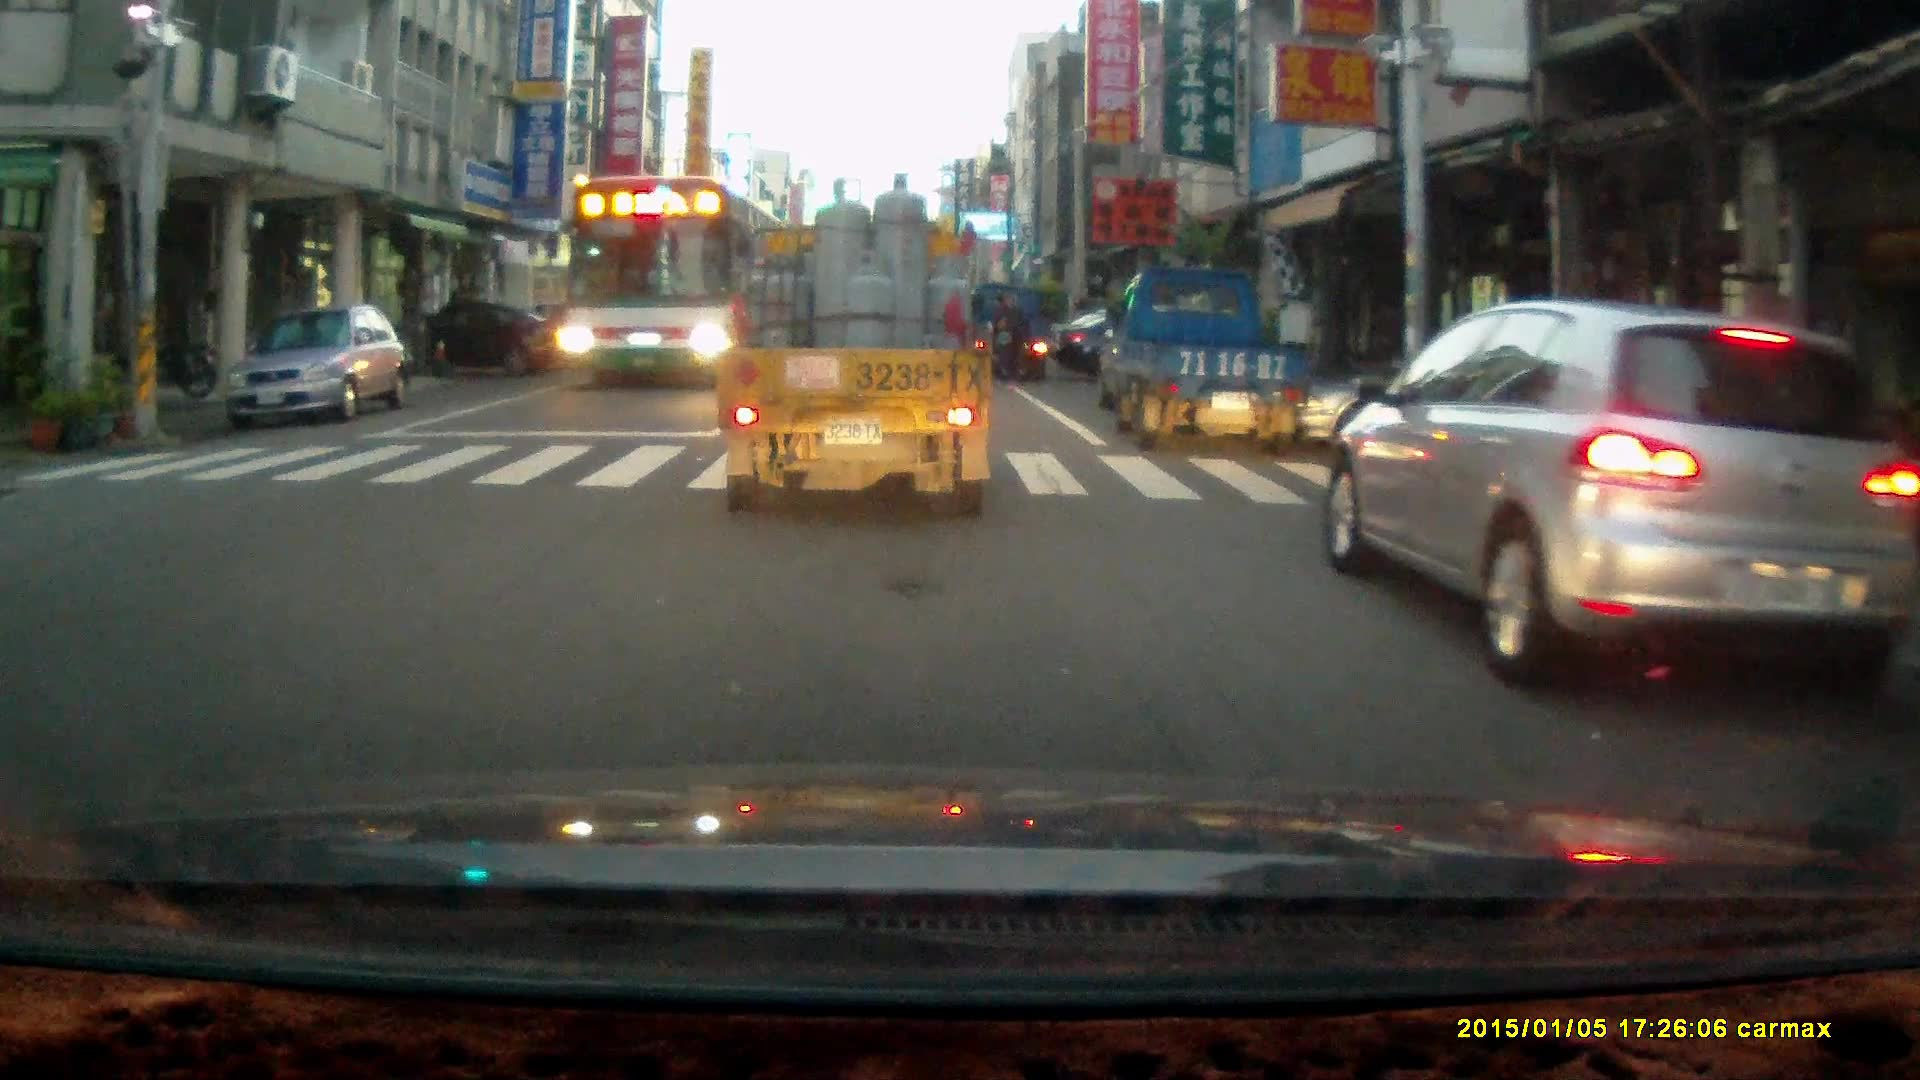pedestrian: (992, 288, 1032, 382)
vehicle: (1323, 297, 1901, 682), (722, 169, 998, 523), (552, 170, 774, 388), (1096, 260, 1307, 449), (216, 294, 416, 427), (401, 297, 564, 376), (969, 276, 1063, 384), (549, 292, 651, 365)
